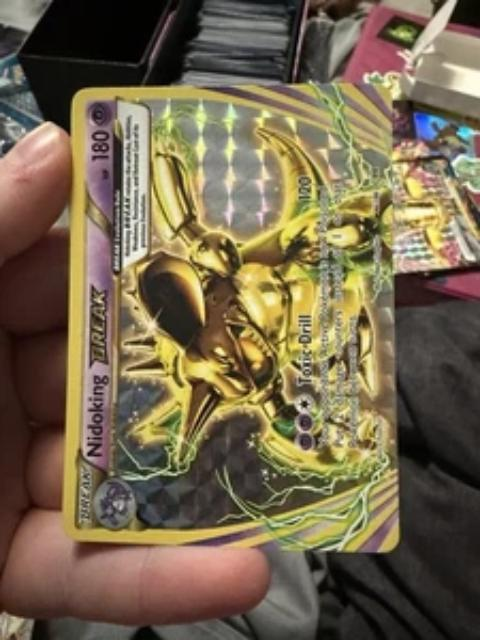Card: (60, 79, 406, 555)
Name: (80, 272, 113, 469)
